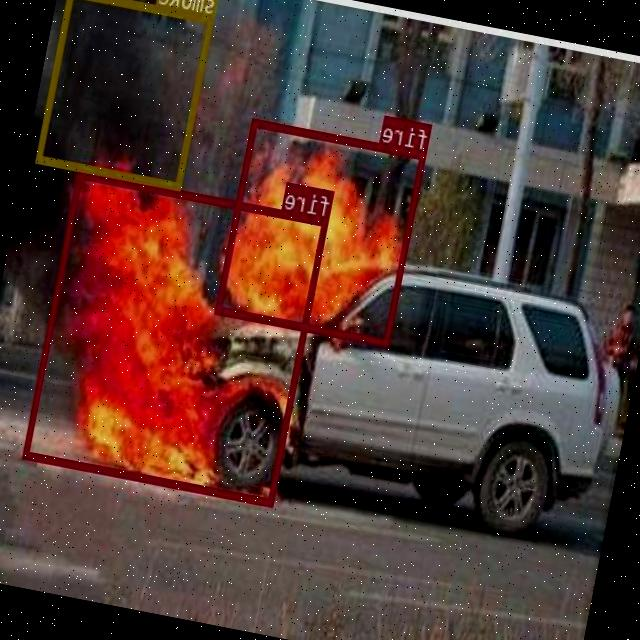fire: (24, 170, 330, 506), (216, 117, 428, 345)
smoke: (37, 0, 216, 190)
